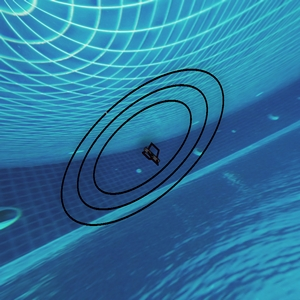circle: (54, 64, 233, 231)
submarine: (143, 144, 161, 164)
